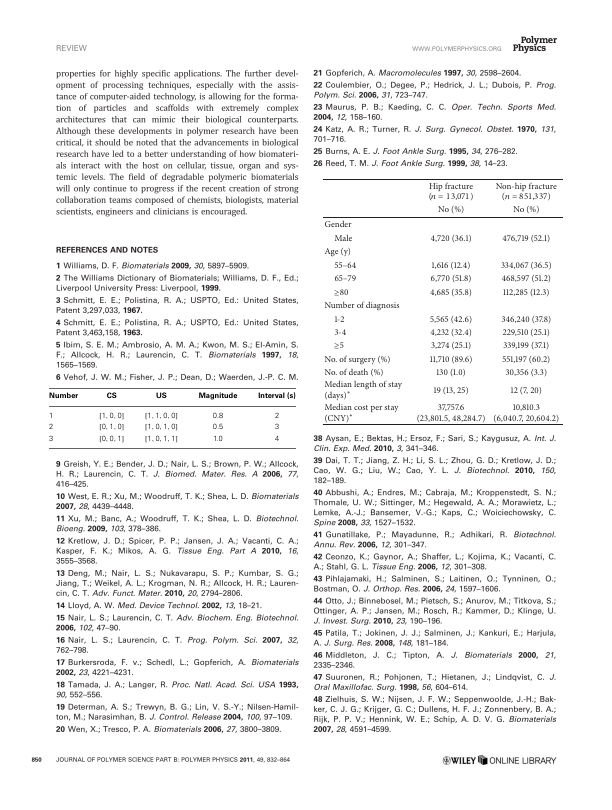borderless: (321, 177, 563, 424), (48, 386, 296, 448)
cell: (323, 379, 403, 401), (323, 402, 399, 424), (416, 402, 486, 424), (492, 402, 560, 424), (495, 181, 558, 204), (428, 181, 474, 204), (323, 300, 401, 311), (323, 354, 391, 364), (323, 367, 384, 378), (500, 260, 553, 271), (500, 314, 552, 325), (501, 233, 551, 244), (502, 327, 551, 338), (501, 274, 552, 284), (501, 354, 551, 364), (429, 233, 473, 244), (429, 314, 473, 325), (429, 327, 473, 338), (504, 367, 548, 378), (502, 287, 550, 297), (502, 341, 550, 351), (431, 260, 471, 271), (429, 287, 473, 297), (429, 354, 473, 364), (430, 274, 472, 284), (430, 341, 472, 351), (432, 385, 470, 395), (197, 392, 238, 401), (435, 367, 467, 378), (257, 392, 296, 401), (323, 219, 353, 230), (510, 385, 543, 395), (323, 246, 352, 257), (143, 411, 178, 420), (143, 434, 178, 443), (47, 392, 79, 401), (437, 205, 465, 215), (512, 205, 540, 215), (143, 423, 178, 431), (333, 260, 357, 271), (98, 411, 125, 420), (98, 434, 125, 443), (333, 274, 357, 284), (333, 284, 349, 299), (333, 233, 353, 244), (98, 423, 125, 431), (333, 337, 345, 353), (333, 327, 347, 338), (333, 314, 345, 325), (154, 392, 167, 401), (105, 392, 117, 401), (211, 411, 224, 419), (211, 423, 224, 430), (212, 434, 223, 442), (47, 411, 54, 419), (273, 411, 279, 419), (48, 434, 54, 442), (273, 434, 279, 442), (48, 423, 54, 430), (273, 423, 279, 430)
